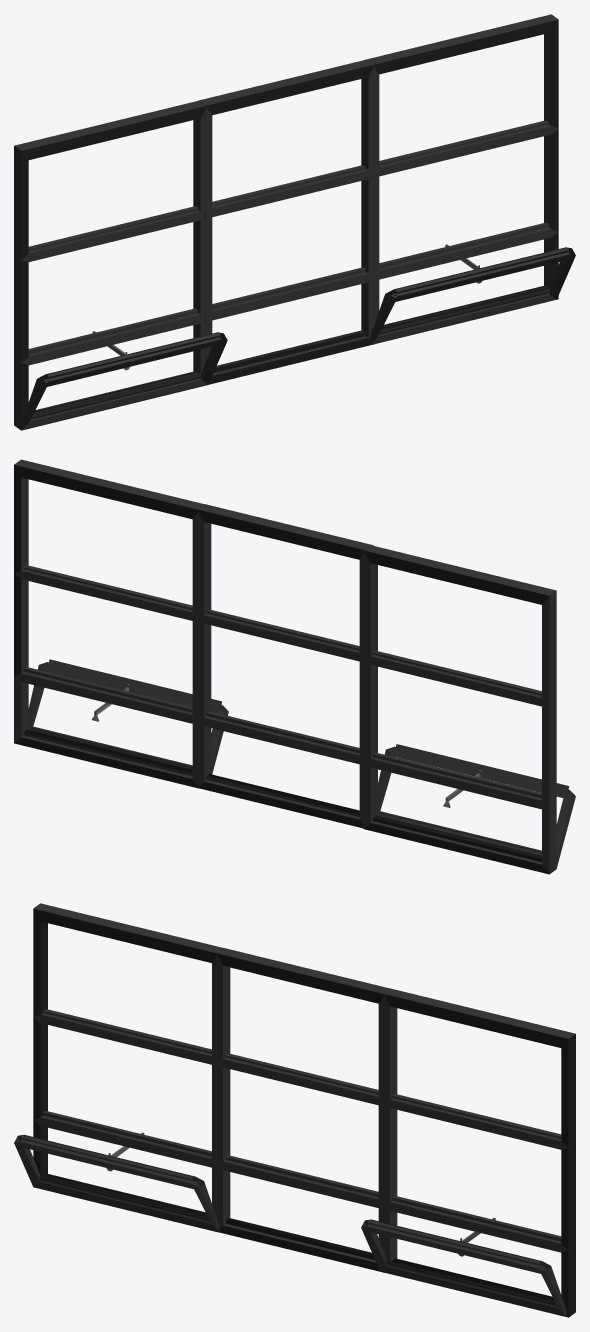
Rendered from VentanaL2APasillo_SashaC_47068620.fbx.
3 views of the same model, one above another, from view 1: azimuth 30°, elevation 25°; view 2: azimuth 150°, elevation 25°; view 3: azimuth 330°, elevation 25° (orthographic).
Visible parts, largest first — view 1: marco, ventana abierta con traba1, ventana abierta con traba2; view 2: marco, ventana abierta con traba2, ventana abierta con traba1; view 3: marco, ventana abierta con traba1, ventana abierta con traba2.
Boxes of the visible parts, left/top/right/bottom form: marco: left=14, top=14, right=558, bottom=430; ventana abierta con traba1: left=21, top=331, right=227, bottom=429; ventana abierta con traba2: left=370, top=244, right=575, bottom=344; marco: left=14, top=459, right=556, bottom=874; ventana abierta con traba2: left=28, top=659, right=228, bottom=774; ventana abierta con traba1: left=378, top=744, right=575, bottom=867; marco: left=33, top=903, right=575, bottom=1317; ventana abierta con traba1: left=14, top=1132, right=219, bottom=1231; ventana abierta con traba2: left=361, top=1217, right=566, bottom=1316.
Bounding box in the file's own units: 564 × 281 × 72.14.
Materials: 3 (3 with a texture image).
